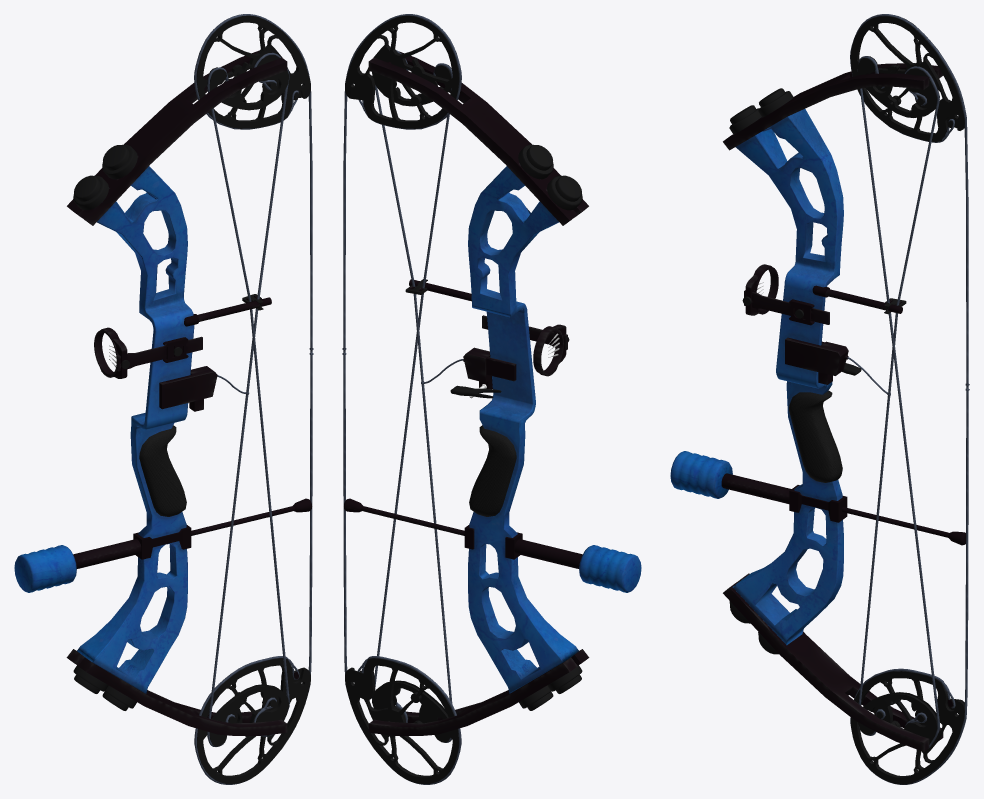
File: compound.glb
3 views of the same model, side by side, from view 1: azimuth 30°, elevation 25°; view 2: azimuth 150°, elevation 25°; view 3: azimuth 330°, elevation 25° (orthographic).
Parts seen in each view (by area): view 1: Object_2, Object_3; view 2: Object_2, Object_3; view 3: Object_2, Object_3.
Part boxes in pixels (box(x1,y1,x2,y2)): Object_2: box(14, 14, 313, 784); Object_3: box(73, 15, 310, 783); Object_2: box(342, 14, 641, 784); Object_3: box(357, 20, 582, 777); Object_2: box(670, 14, 969, 784); Object_3: box(721, 16, 964, 784).
Size of the model in its own units: 2.31 by 5.85 by 0.3949.
Materials: 1 (1 with a texture image).
